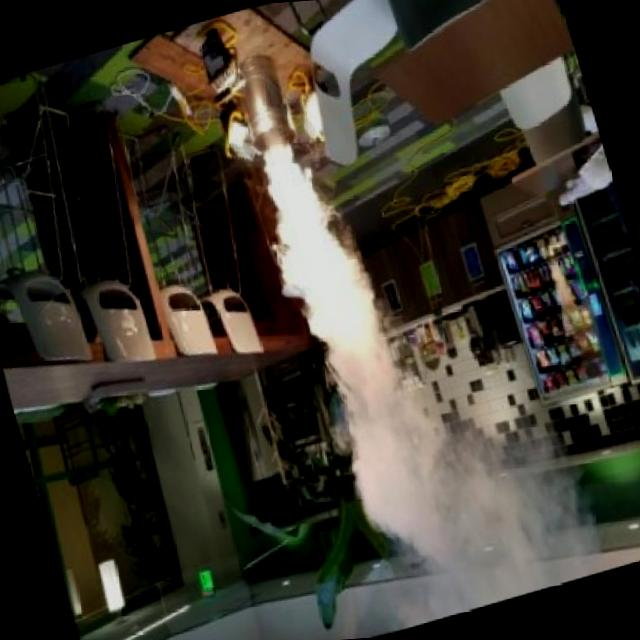smoke: (250, 136, 380, 374)
